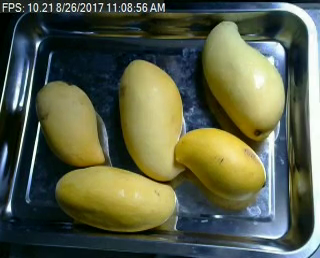Mango: (197, 16, 285, 140), (114, 54, 191, 181), (52, 163, 181, 234), (175, 123, 269, 205), (31, 77, 112, 168)
